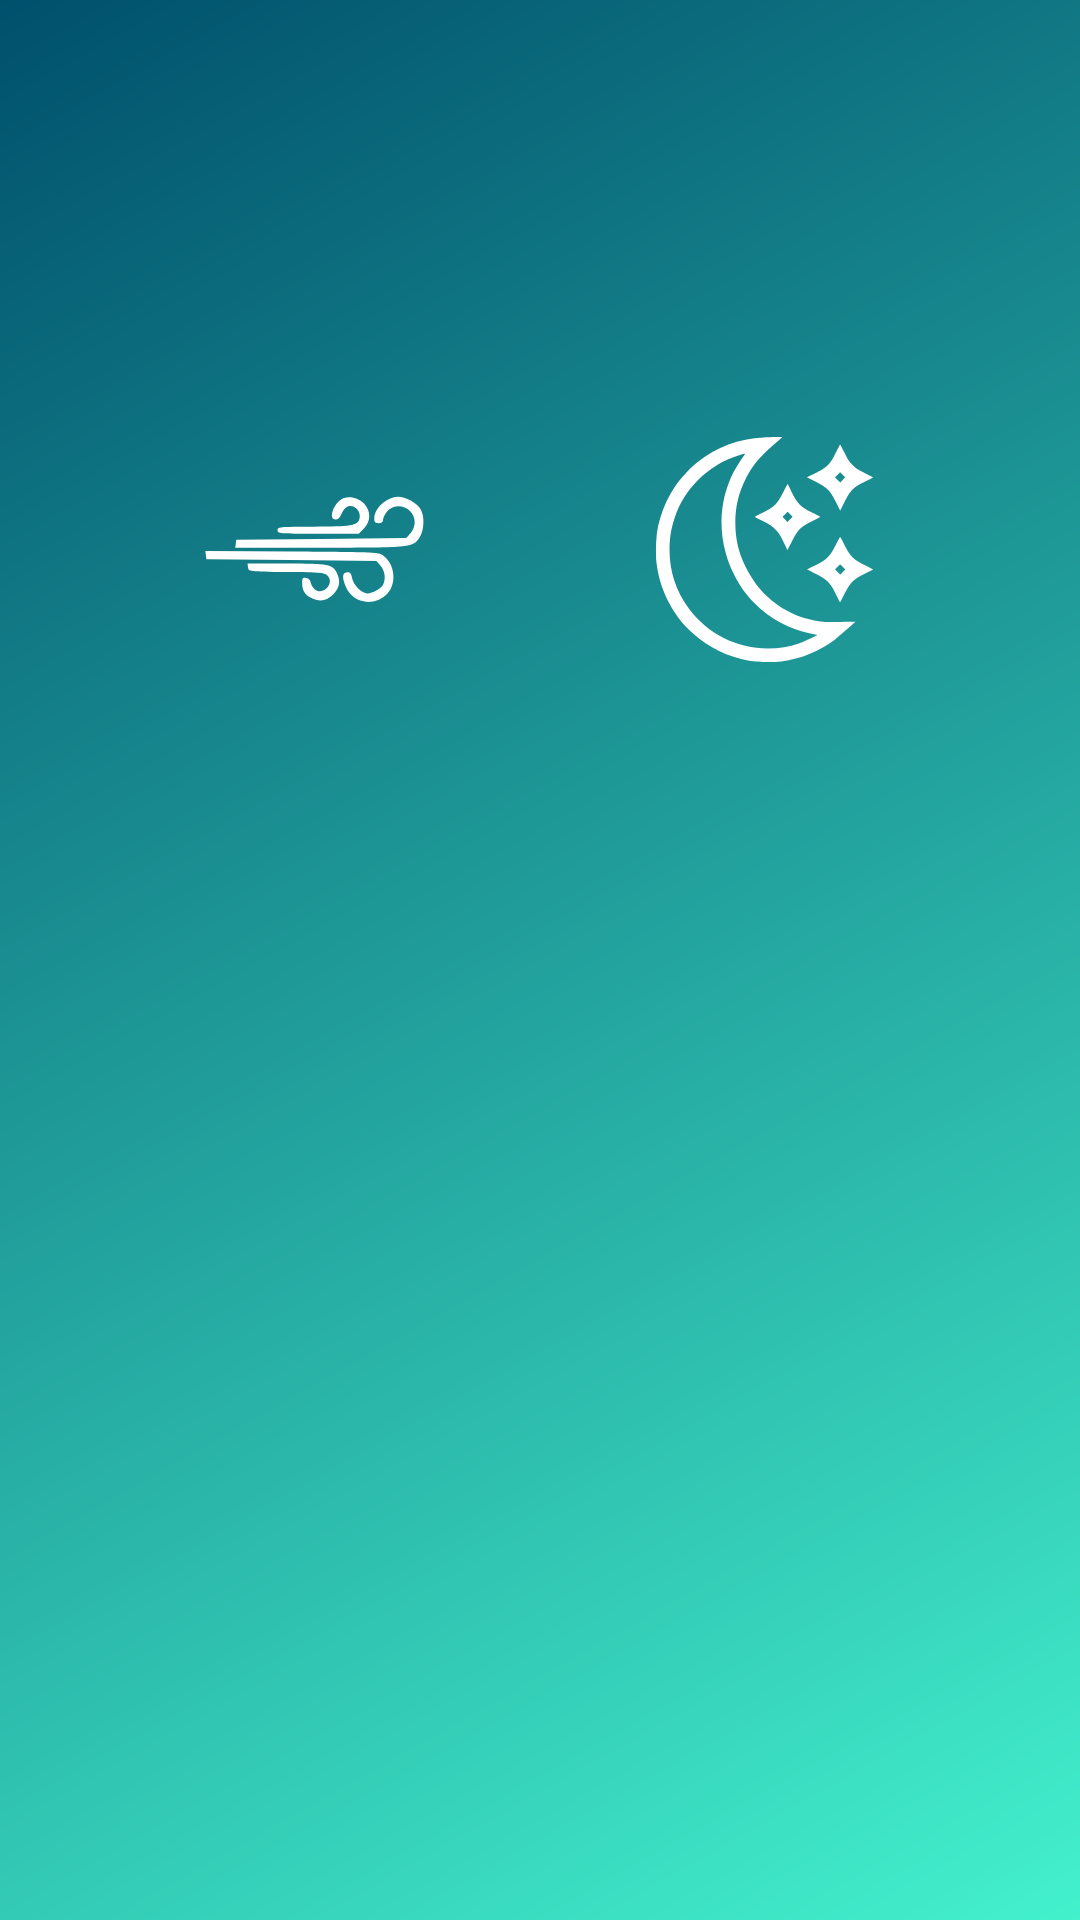

Locate icon controls on the screen. Image size 1080w x 1920h, boxes as (x1,y1,x2,y2).
night: (656,437,873,662)
wind: (205,496,424,602)
